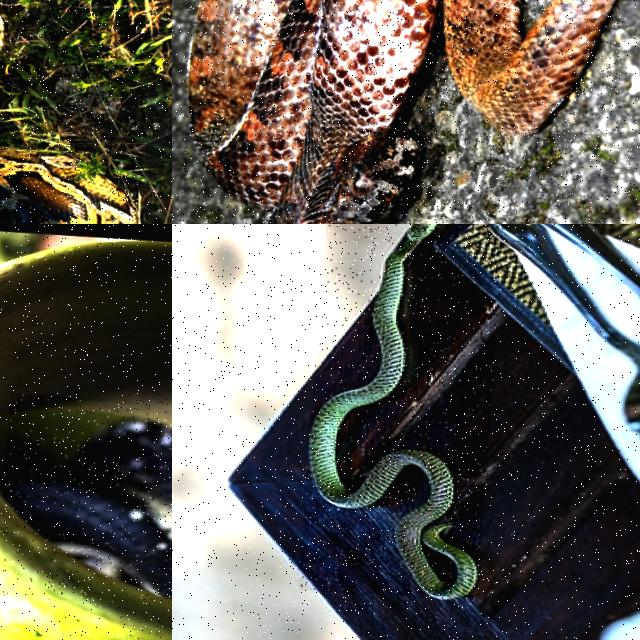Chrysopelea ornata: (309, 224, 478, 599)
Naja siamensis: (3, 421, 171, 597)
Ovophis monticola: (188, 0, 440, 223)
Python bivittatus: (0, 147, 137, 223)
